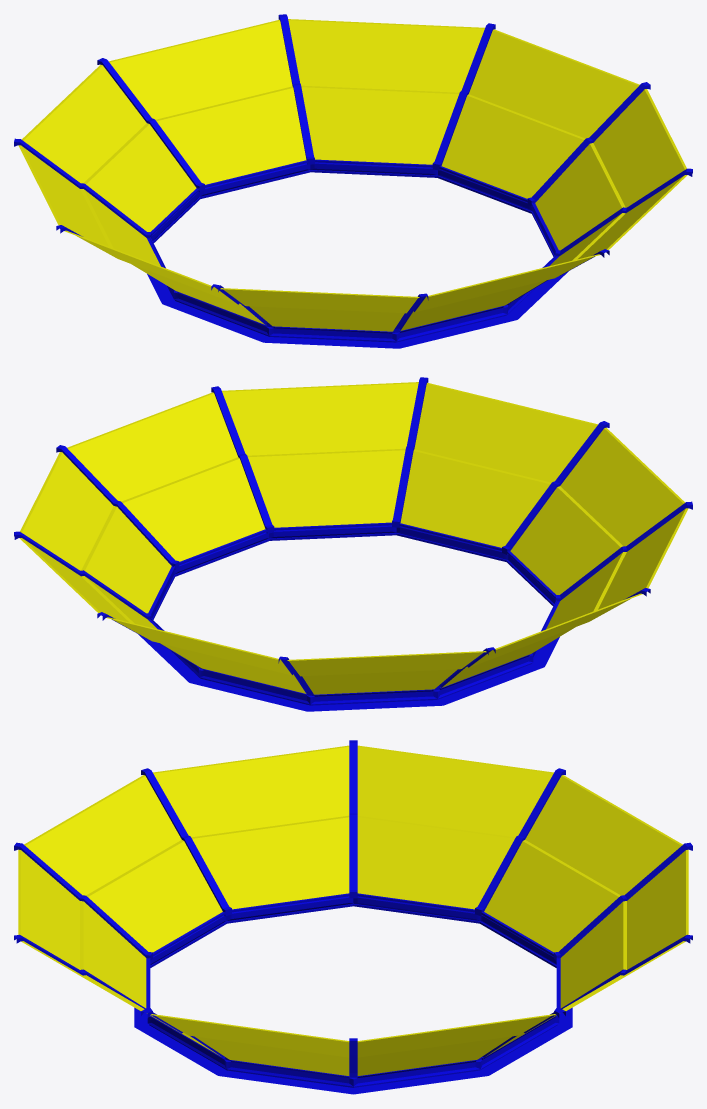
The model's file is stadiumCroud.fbx.
3 renders of one model, top to bottom at view 1: azimuth 30°, elevation 25°; view 2: azimuth 150°, elevation 25°; view 3: azimuth 270°, elevation 25°, orthographic. The views are drawn at different scales.
Parts seen in each view (by area): view 1: low_stadium_02; view 2: low_stadium_02; view 3: low_stadium_02.
Boxes of the visible parts, x1,y1,x2,y2 form: low_stadium_02: (14,14,692,348); low_stadium_02: (14,377,692,711); low_stadium_02: (14,740,692,1094).
Size of the model in its own units: 2169 by 358 by 2070.
